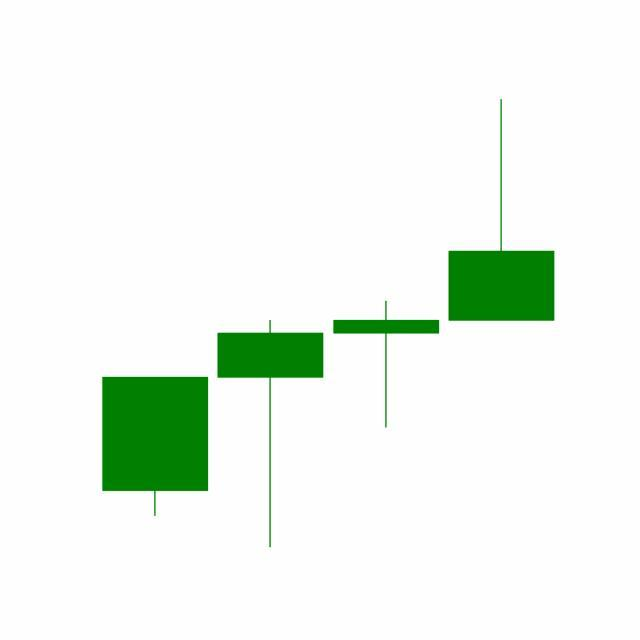Hanging Man: (329, 300, 445, 430)
